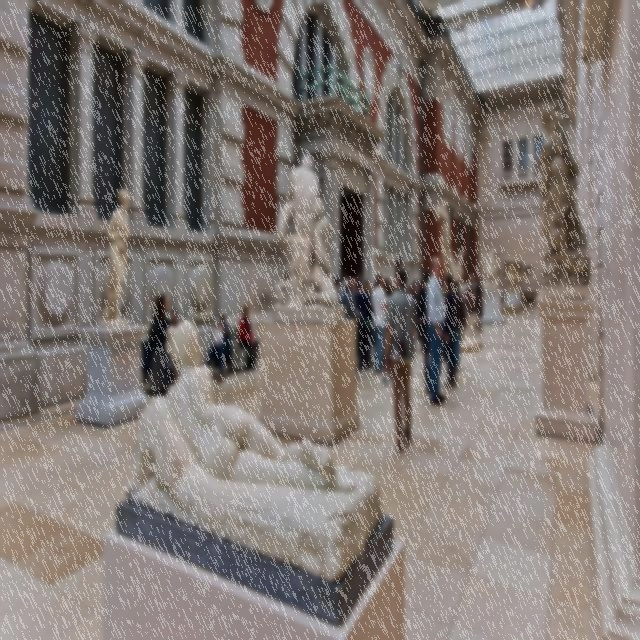pessoa: (164, 384, 362, 489), (271, 150, 341, 311), (535, 98, 590, 284), (380, 265, 418, 454), (105, 187, 134, 326), (166, 306, 213, 383), (426, 256, 448, 406), (146, 292, 172, 399), (434, 198, 464, 280), (206, 309, 233, 384), (353, 276, 373, 370), (370, 271, 388, 375), (442, 274, 458, 389), (418, 268, 432, 394), (451, 277, 468, 373), (237, 302, 259, 372), (381, 280, 394, 370), (480, 246, 500, 288), (362, 282, 372, 363), (369, 280, 379, 360), (472, 276, 486, 333), (345, 276, 362, 322), (408, 283, 418, 350), (418, 276, 426, 342), (339, 272, 348, 306), (468, 281, 476, 312), (412, 278, 419, 310), (342, 278, 350, 306), (465, 288, 472, 315), (362, 278, 372, 292), (439, 280, 447, 296), (392, 271, 396, 291), (382, 282, 387, 297), (150, 309, 156, 321), (384, 276, 391, 282), (372, 282, 377, 290), (356, 272, 362, 277), (421, 343, 424, 351), (355, 283, 358, 291), (423, 282, 426, 288)
